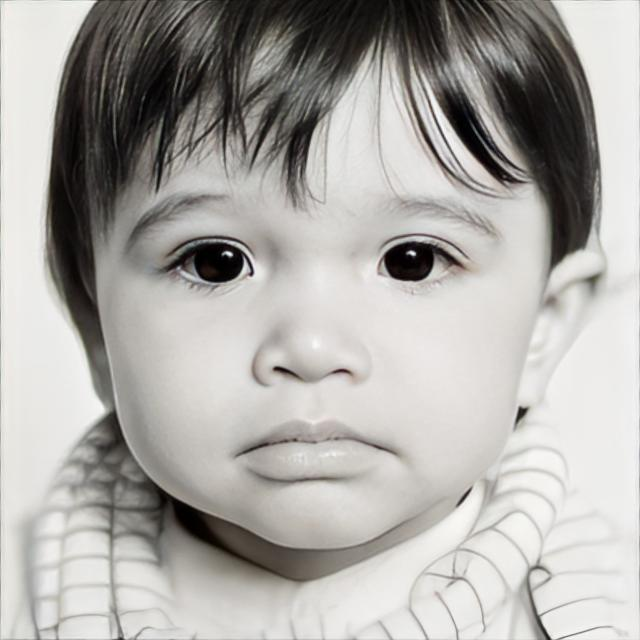sad: (94, 28, 516, 549)
